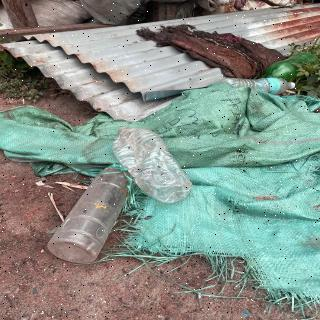Plastic-bottle: (112, 125, 199, 207), (257, 49, 320, 86), (220, 76, 304, 97)
